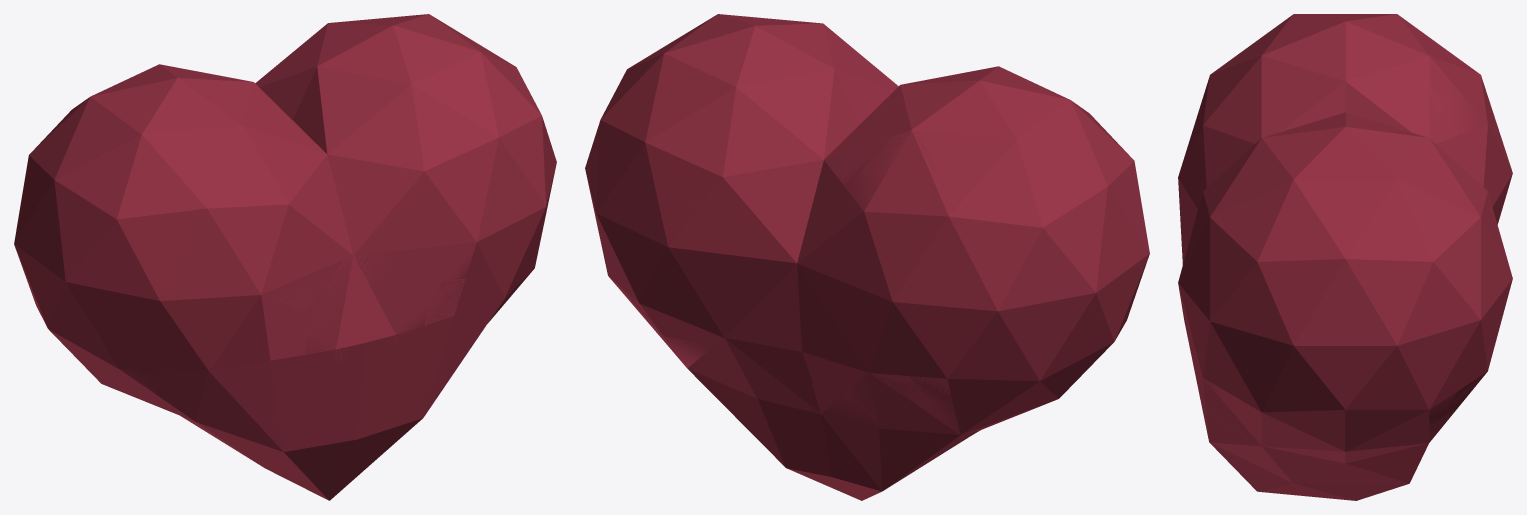
The model's file is shark.glb.
3 views of the same model, side by side, from view 1: azimuth 30°, elevation 25°; view 2: azimuth 150°, elevation 25°; view 3: azimuth 270°, elevation 25° (orthographic). The views are drawn at different scales.
Parts seen in each view (by area): view 1: origin, Heart_Full_cell.011, Heart_Full_cell.043, Heart_Full_cell.024, Heart_Full_cell.030, Heart_Full_cell.049, Heart_Full_cell.003, Heart_Full_cell.010, Heart_Full_cell.042, Heart_Full_cell.004, Heart_Full_cell.057, Heart_Full_cell.058 (+13 smaller); view 2: origin, Heart_Full_cell.056, Heart_Full_cell.054, Heart_Full_cell.051, Heart_Full_cell.028, Heart_Full_cell.014, Heart_Full_cell.020, Heart_Full_cell.005, Heart_Full_cell.050, Heart_Full_cell.023, Heart_Full_cell.030, Heart_Full_cell.026 (+18 smaller); view 3: origin, Heart_Full_cell.016, Heart_Full_cell.038, Heart_Full_cell.018, Heart_Full_cell.022, Heart_Full_cell.027, Heart_Full_cell.037, Heart_Full_cell.004, Heart_Full_cell.042, Heart_Full_cell.026, Heart_Full_cell.029, Heart_Full_cell.041 (+15 smaller).
Boxes of the visible parts, box(x1,y1,x2,y2) form: origin: box(14, 14, 556, 500); Heart_Full_cell.011: box(332, 85, 471, 250); Heart_Full_cell.043: box(160, 159, 248, 281); Heart_Full_cell.024: box(281, 40, 388, 129); Heart_Full_cell.030: box(22, 138, 99, 241); Heart_Full_cell.049: box(83, 319, 166, 395); Heart_Full_cell.003: box(99, 79, 194, 182); Heart_Full_cell.010: box(395, 188, 539, 279); Heart_Full_cell.042: box(178, 79, 297, 175); Heart_Full_cell.004: box(425, 23, 510, 99); Heart_Full_cell.057: box(304, 248, 426, 373); Heart_Full_cell.058: box(431, 91, 535, 201); origin: box(590, 14, 1149, 496); Heart_Full_cell.056: box(919, 83, 1064, 202); Heart_Full_cell.054: box(719, 261, 846, 394); Heart_Full_cell.051: box(646, 130, 788, 260); Heart_Full_cell.028: box(655, 57, 796, 136); Heart_Full_cell.014: box(885, 301, 997, 406); Heart_Full_cell.020: box(783, 379, 890, 451); Heart_Full_cell.005: box(833, 301, 925, 421); Heart_Full_cell.050: box(708, 340, 792, 434); Heart_Full_cell.023: box(885, 399, 1007, 462); Heart_Full_cell.030: box(1058, 142, 1129, 278); Heart_Full_cell.026: box(775, 108, 891, 261); origin: box(1178, 14, 1512, 500); Heart_Full_cell.016: box(1309, 294, 1438, 385); Heart_Full_cell.038: box(1300, 22, 1422, 119); Heart_Full_cell.018: box(1378, 360, 1461, 432); Heart_Full_cell.022: box(1264, 418, 1404, 457); Heart_Full_cell.027: box(1386, 181, 1481, 312); Heart_Full_cell.037: box(1423, 54, 1487, 188); Heart_Full_cell.004: box(1252, 147, 1382, 228); Heart_Full_cell.042: box(1230, 22, 1343, 122); Heart_Full_cell.026: box(1383, 76, 1450, 137); Heart_Full_cell.029: box(1233, 463, 1351, 493); Heart_Full_cell.041: box(1262, 443, 1405, 476).
Size of the model in its own units: 0.9714 by 0.8057 by 0.5728.
